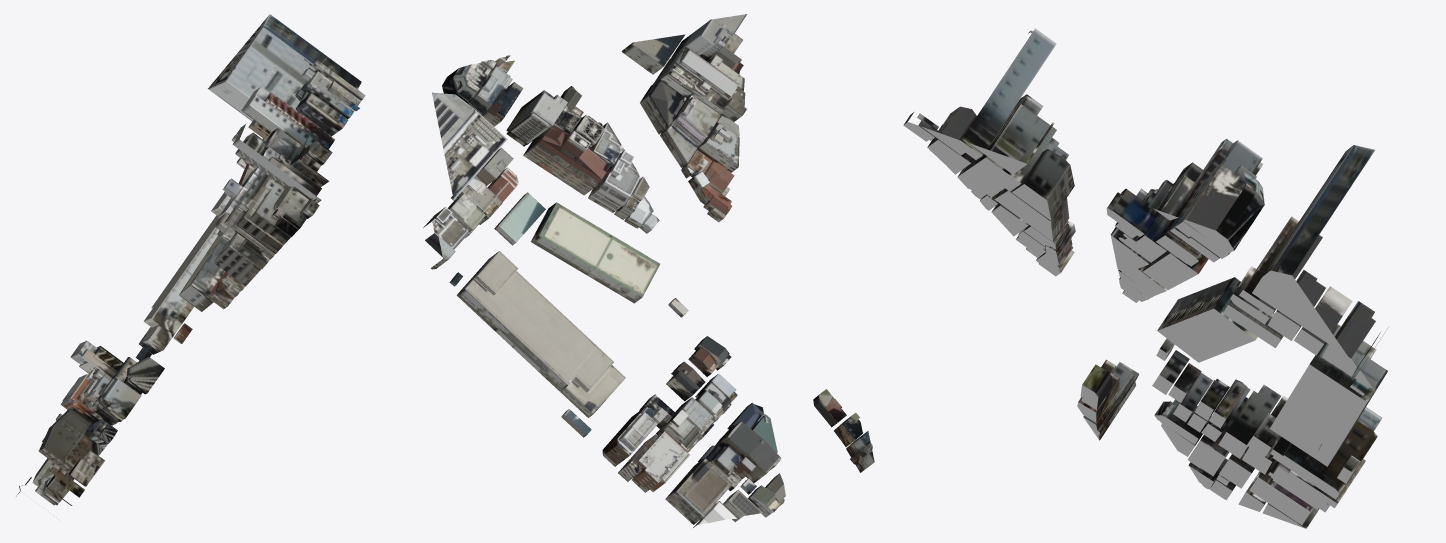
File: 39517_bldg_Building.glb
3 renders of one model, left to right at view 1: azimuth 30°, elevation 25°; view 2: azimuth 150°, elevation 25°; view 3: azimuth 270°, elevation 25°, orthographic. The views are drawn at different scales.
Size of the model in its own units: 150 by 142 by 123.
Materials: 3 (2 with a texture image).
